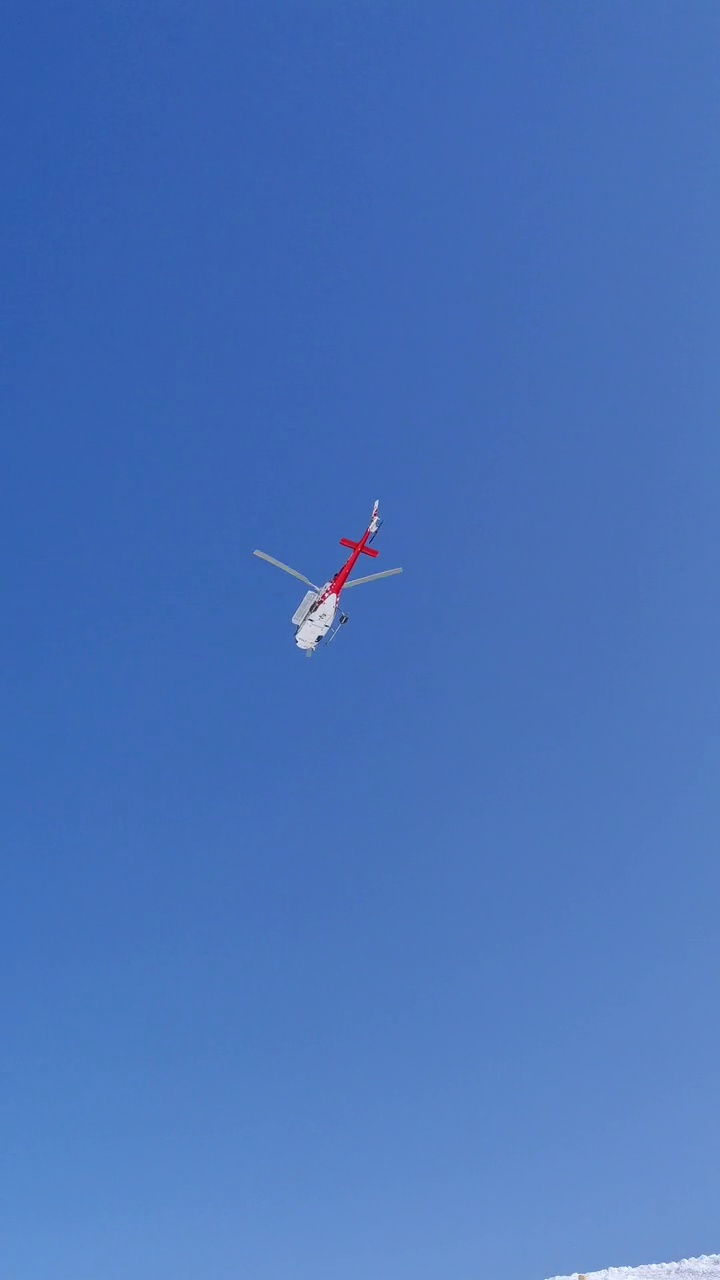heli: (254, 494, 402, 655)
